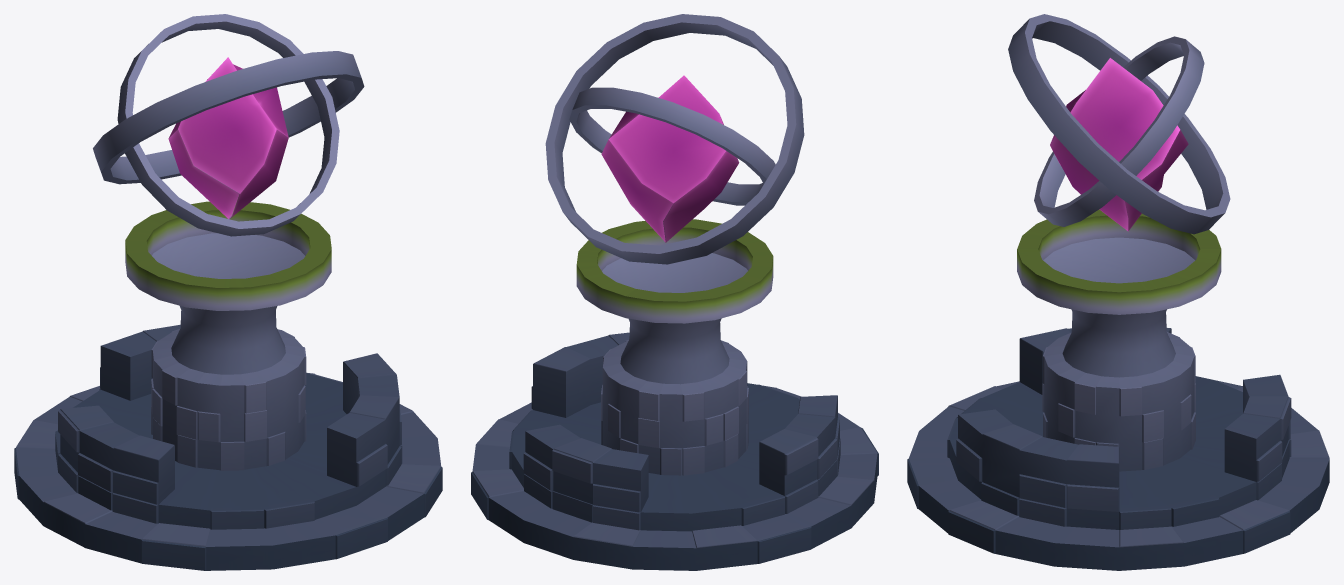
The model's file is Shrine.fbx.
The picture shows the model from 3 angles, left to right: view 1: azimuth 30°, elevation 25°; view 2: azimuth 150°, elevation 25°; view 3: azimuth 270°, elevation 25°; orthographic projection. The views are drawn at different scales.
Visible parts, largest first — view 1: Fountain, Ring1, Crystal, Ring2; view 2: Fountain, Ring1, Crystal, Ring2; view 3: Fountain, Ring1, Crystal, Ring2.
Part boxes in pixels (x1,y1,x2,y2): Fountain: [14, 201, 442, 570]; Ring1: [93, 51, 364, 184]; Crystal: [168, 57, 288, 219]; Ring2: [117, 14, 339, 236]; Fountain: [471, 219, 878, 570]; Ring1: [545, 14, 804, 264]; Crystal: [601, 75, 739, 242]; Ring2: [569, 87, 775, 205]; Fountain: [907, 209, 1329, 570]; Ring1: [1008, 14, 1230, 234]; Crystal: [1050, 58, 1188, 231]; Ring2: [1034, 36, 1204, 226].
Size of the model in its own units: 388 by 457 by 390.
1 material, 1 textured.
